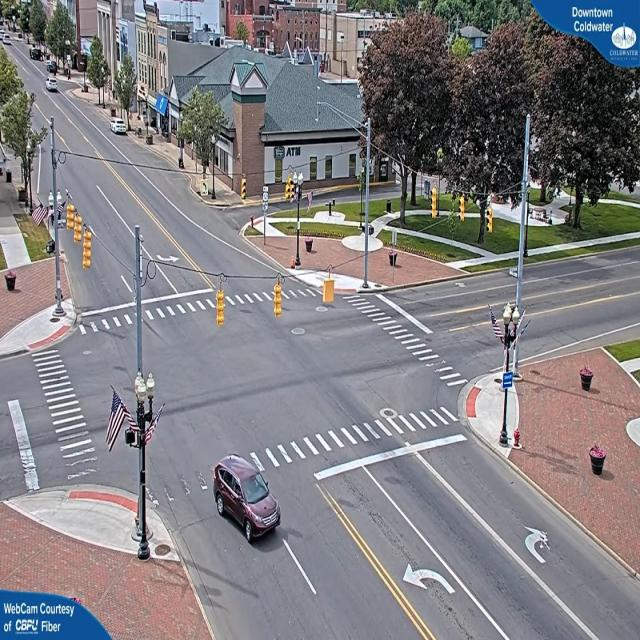car: (213, 454, 282, 541), (111, 119, 129, 136)
